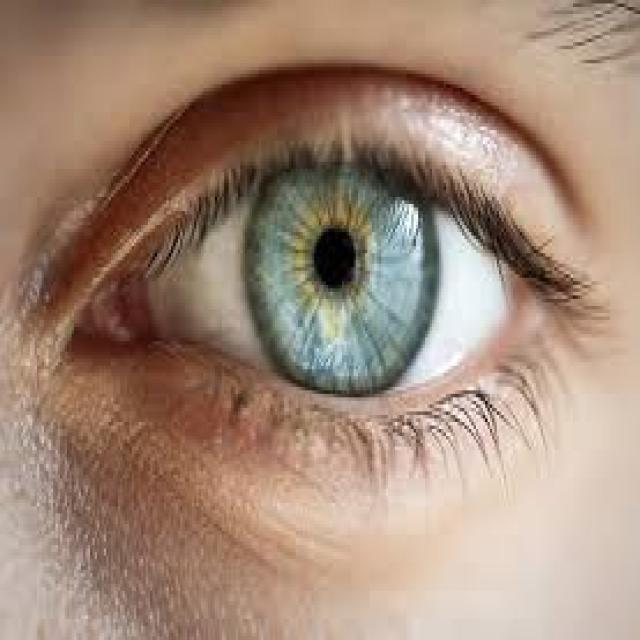Eyes-iris: (246, 130, 442, 407)
